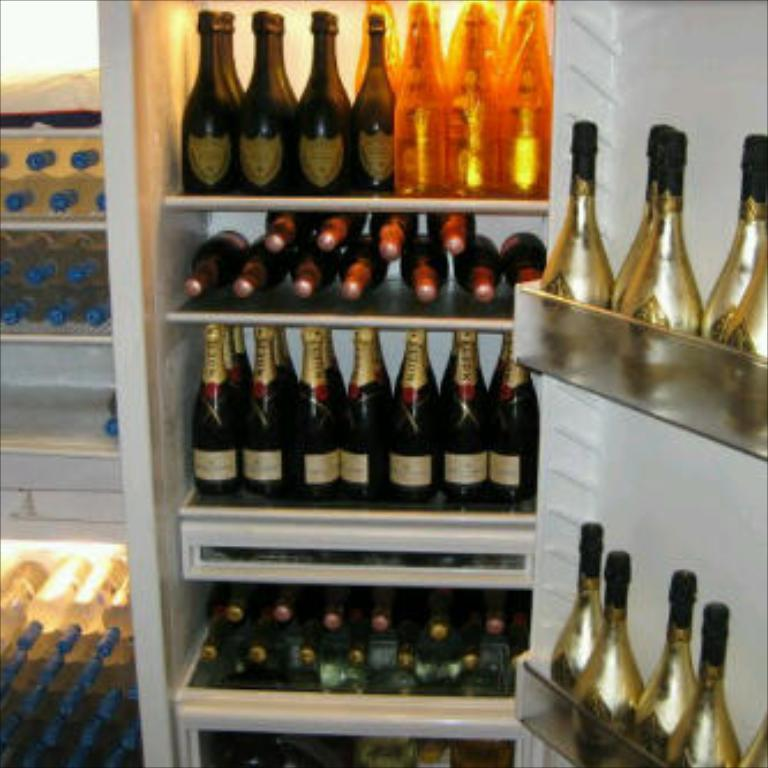refrigerator door: (561, 44, 758, 768)
